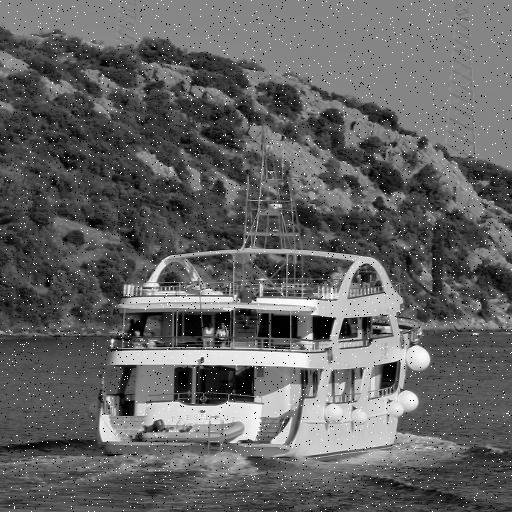cruises: (91, 245, 422, 466)
